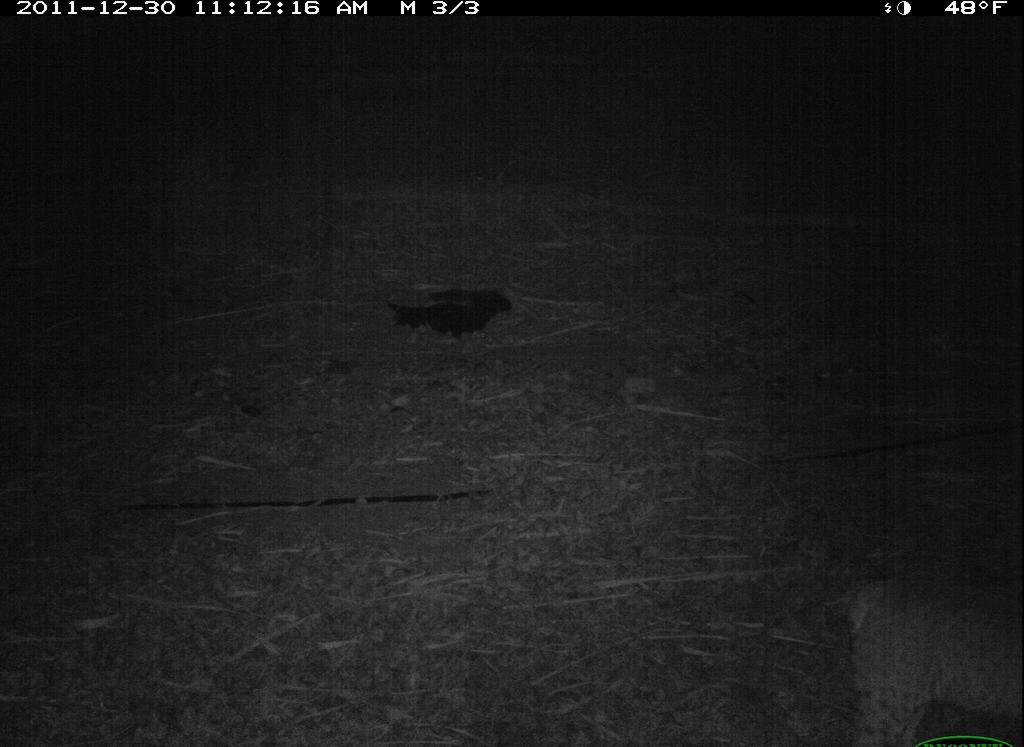bobcat: (820, 571, 1019, 747)
